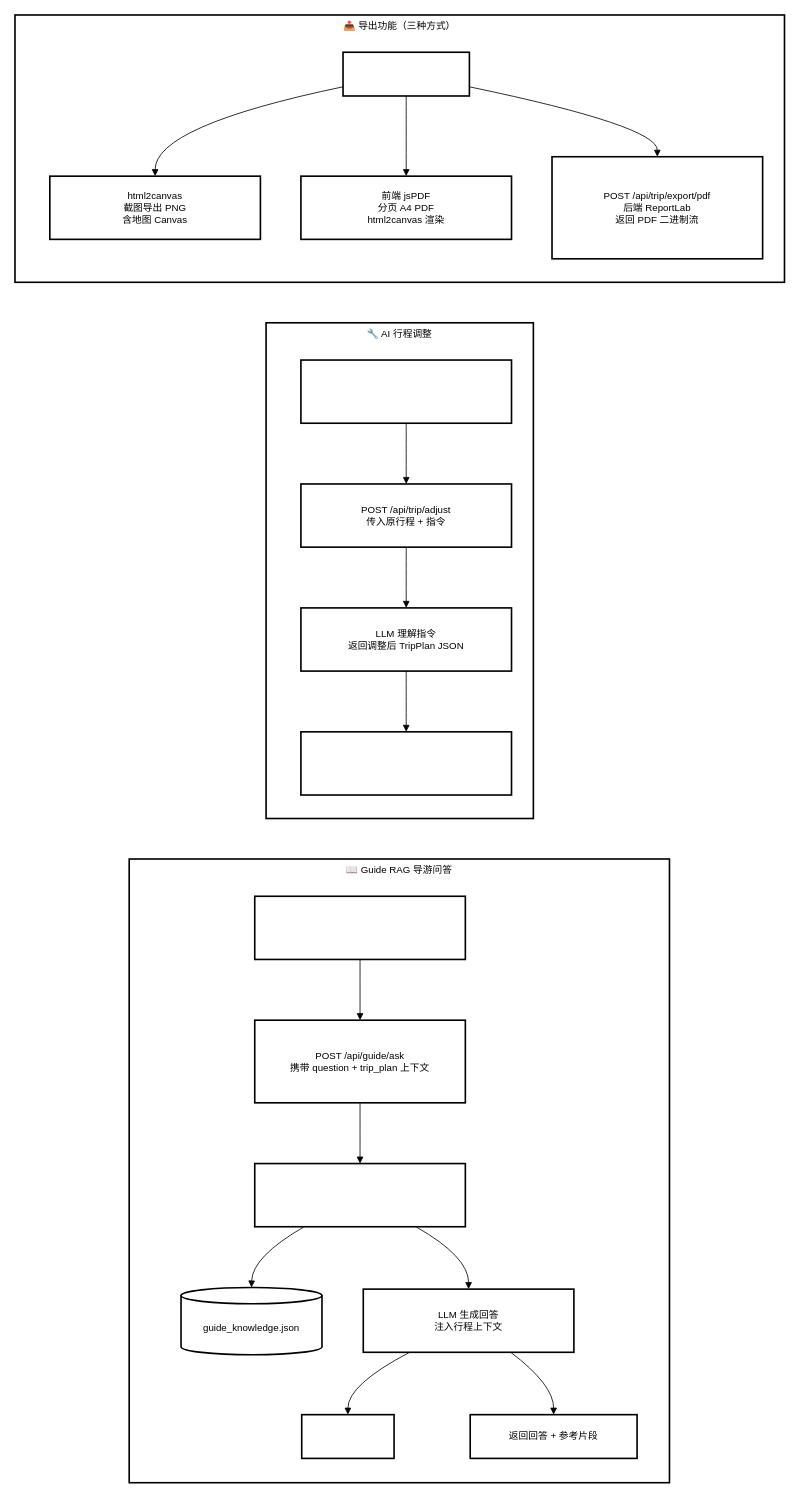
Image size: 799x1497. Some labels were removed from this diagram. The centre of each missing label's shape, as x and y in pixels:
LLM API: the point at 347,1436
Result.vue 重新渲染 地图 + 行程同步更新: the point at 406,763
TF-IDF 检索 知识库 Top-K 片段 城市/景点字段加权: the point at 360,1194
用户在 Result.vue 导游抽屉输入问题: the point at 360,927
用户点击导出: the point at 406,73
用户自然语言指令 例：第二天改轻松一点: the point at 406,391
